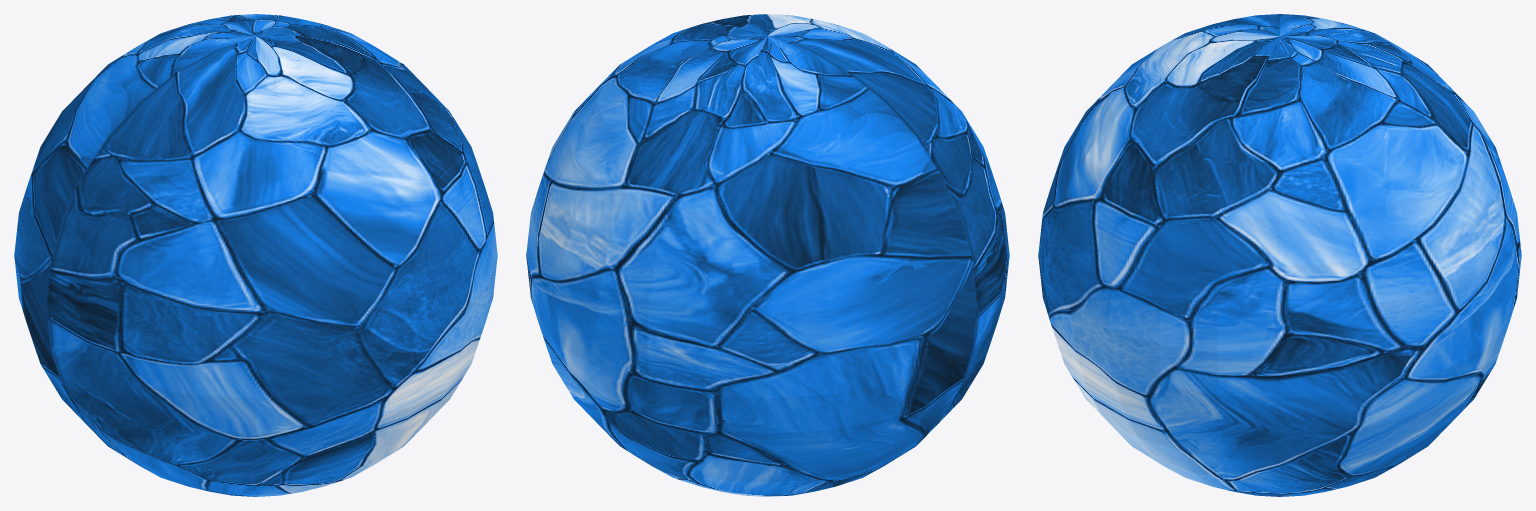
The model's file is starBlueEmissiveTest.glb.
3 views of the same model, side by side, from view 1: azimuth 30°, elevation 25°; view 2: azimuth 150°, elevation 25°; view 3: azimuth 270°, elevation 25° (orthographic).
Parts seen in each view (by area): view 1: starRef; view 2: starRef; view 3: starRef.
Boxes of the visible parts, left/top/right/bottom form: starRef: left=14, top=14, right=497, bottom=496; starRef: left=526, top=14, right=1009, bottom=496; starRef: left=1038, top=14, right=1521, bottom=496.
Bounding box in the file's own units: 1 × 1 × 1.
1 material, 1 textured.
